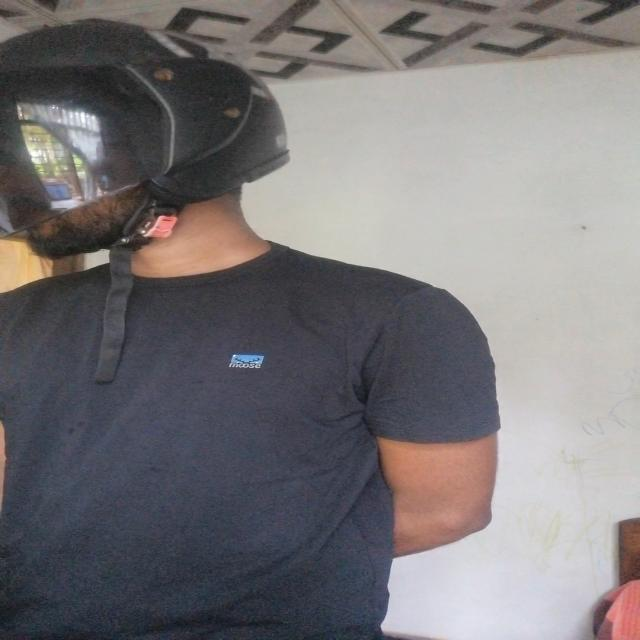Helmet_Wearer: (0, 19, 299, 308)
Person: (0, 18, 519, 640)
